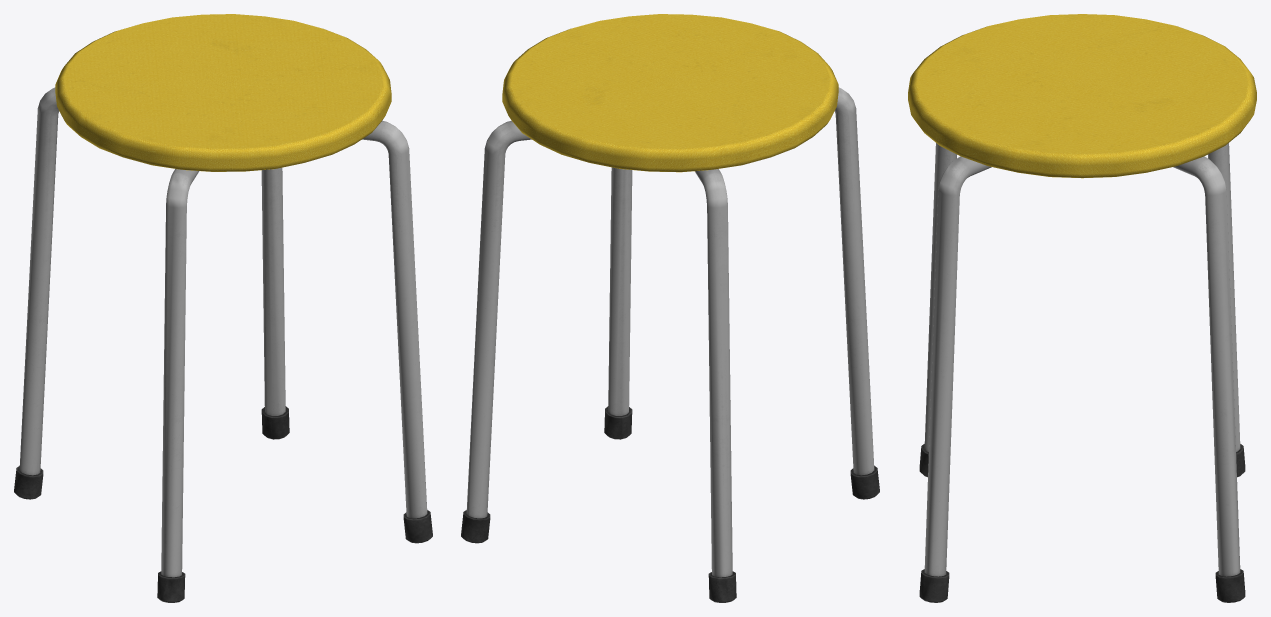
File: SM_Stool_01.fbx
The picture shows the model from 3 angles, left to right: view 1: azimuth 30°, elevation 25°; view 2: azimuth 150°, elevation 25°; view 3: azimuth 270°, elevation 25°; orthographic projection. The views are drawn at different scales.
Visible parts, largest first — view 1: SM_Stool_01_LOD0; view 2: SM_Stool_01_LOD0; view 3: SM_Stool_01_LOD0.
Boxes of the visible parts, x1,y1,x2,y2 form: SM_Stool_01_LOD0: (14, 14, 432, 602); SM_Stool_01_LOD0: (461, 14, 879, 602); SM_Stool_01_LOD0: (908, 14, 1256, 602).
Bounding box in the file's own units: 33.55 × 33.55 × 48.1.
